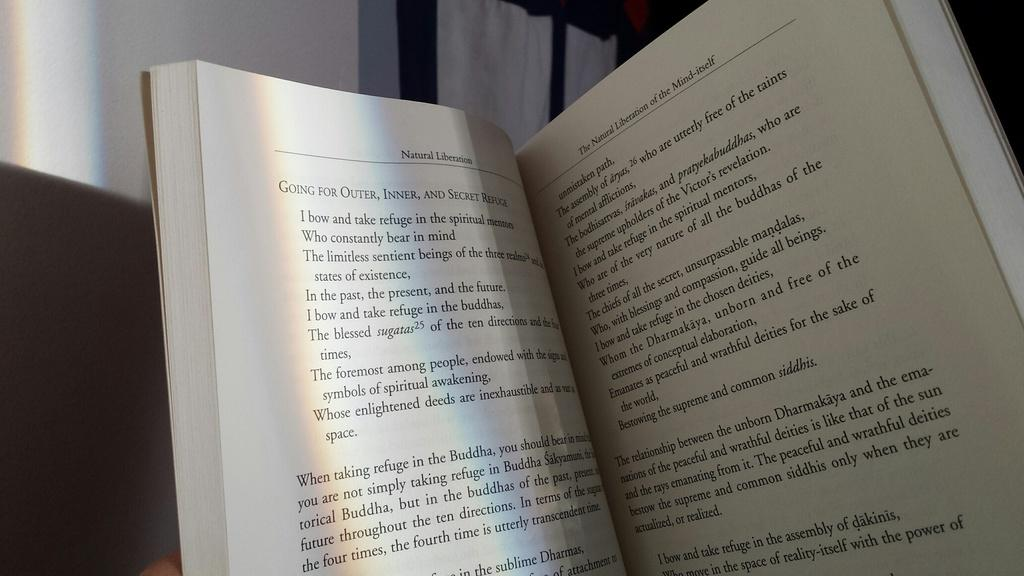Book: (141, 0, 1022, 574)
Chair: (0, 159, 180, 574)
